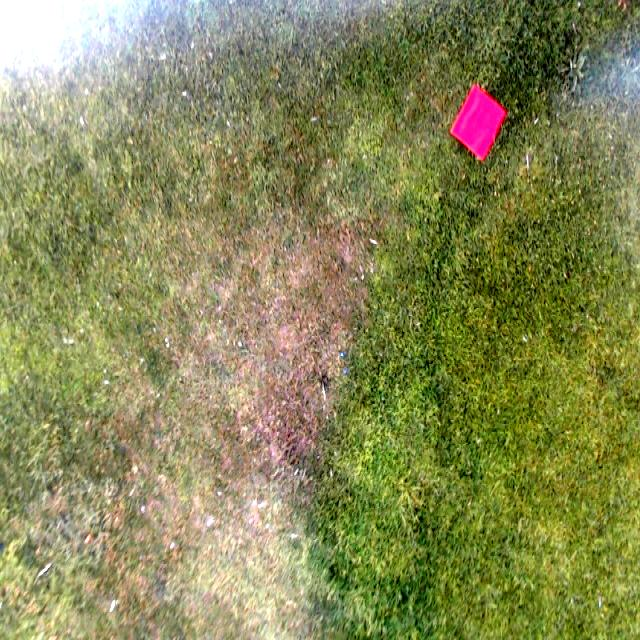red_square: (450, 85, 506, 162)
